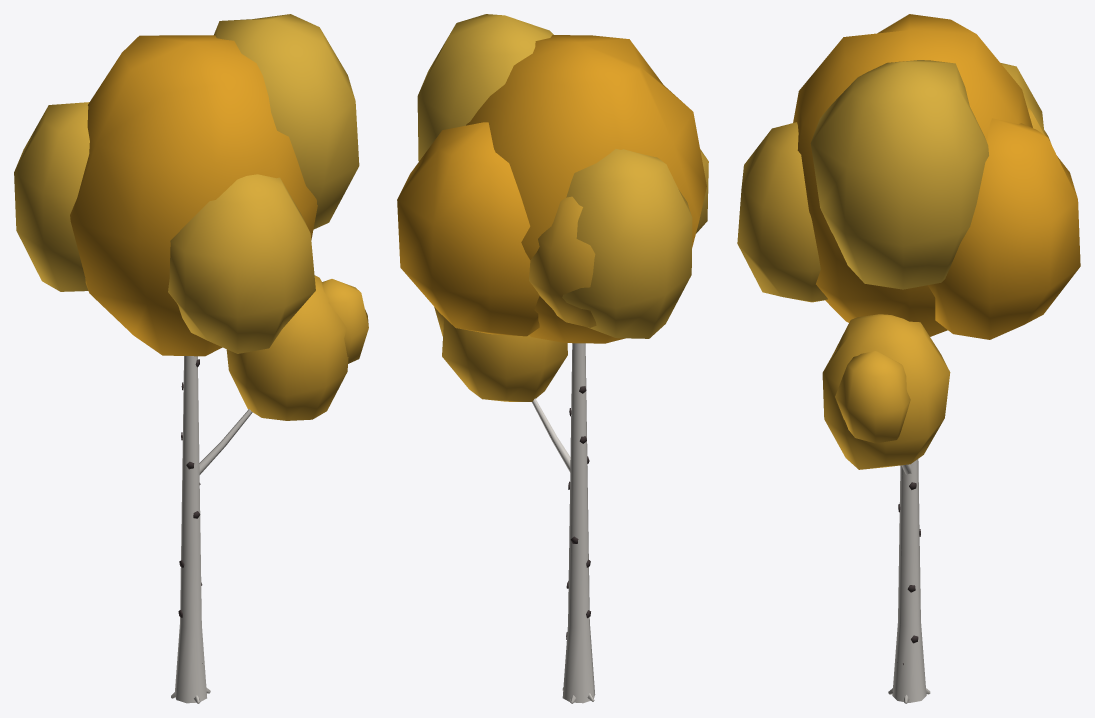
File: flora_tree_golden_birch.gltf
3 renders of one model, left to right at view 1: azimuth 30°, elevation 25°; view 2: azimuth 150°, elevation 25°; view 3: azimuth 270°, elevation 25°, orthographic.
Parts seen in each view (by area): view 1: flora_tree_golden_birch; view 2: flora_tree_golden_birch; view 3: flora_tree_golden_birch.
Boxes of the visible parts, left/top/right/bottom form: flora_tree_golden_birch: left=14, top=14, right=368, bottom=703; flora_tree_golden_birch: left=397, top=14, right=708, bottom=703; flora_tree_golden_birch: left=737, top=14, right=1080, bottom=703.
Size of what is drawn, in the model's own units: 4.61 by 9.93 by 4.6.
